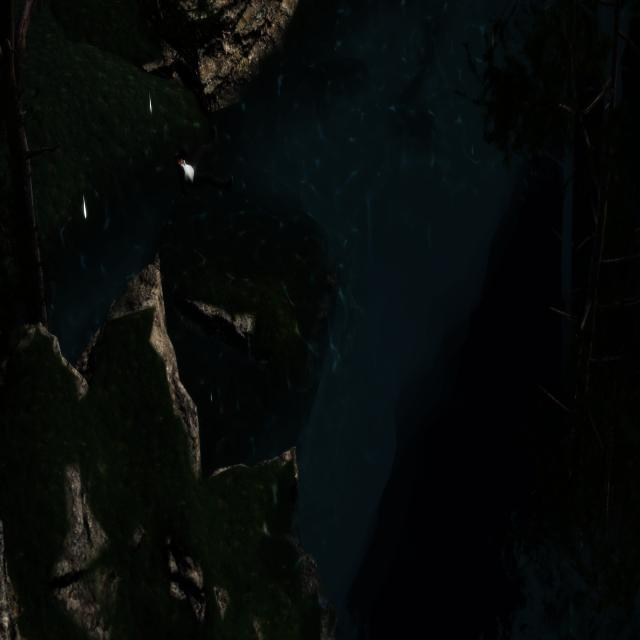Human: (166, 121, 236, 216)
